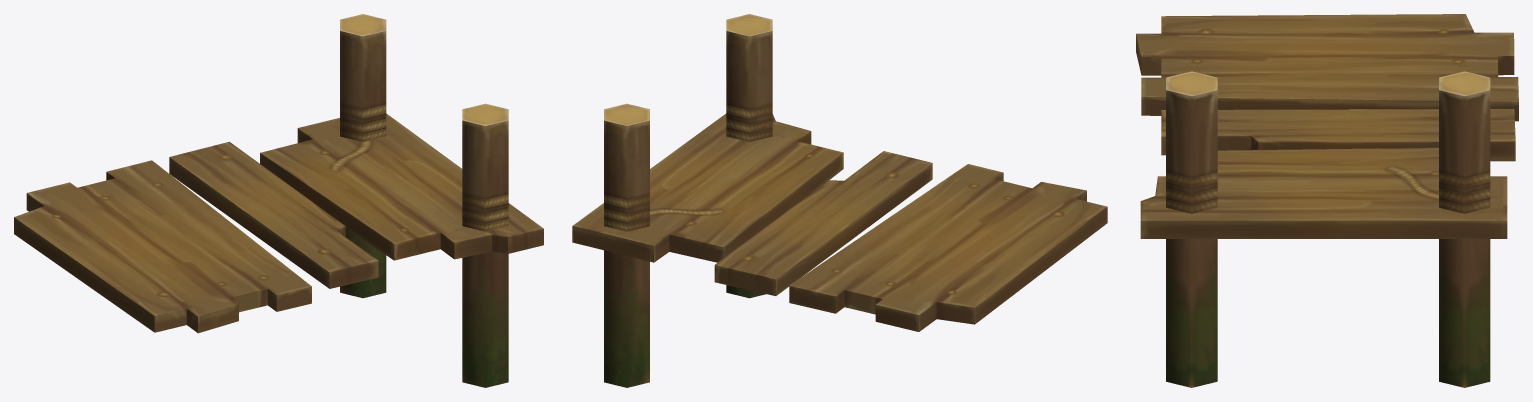
File: Stage_CaoYuan_MuQiao03.FBX
3 views of the same model, side by side, from view 1: azimuth 30°, elevation 25°; view 2: azimuth 150°, elevation 25°; view 3: azimuth 270°, elevation 25° (orthographic). The views are drawn at different scales.
Parts seen in each view (by area): view 1: Stage_CaoYuan_MuQiao03; view 2: Stage_CaoYuan_MuQiao03; view 3: Stage_CaoYuan_MuQiao03.
Part boxes in pixels (x1,y1,x2,y2): Stage_CaoYuan_MuQiao03: (14,14,543,387); Stage_CaoYuan_MuQiao03: (572,14,1107,387); Stage_CaoYuan_MuQiao03: (1136,14,1518,387).
Size of the model in its own units: 207 by 135 by 161.
